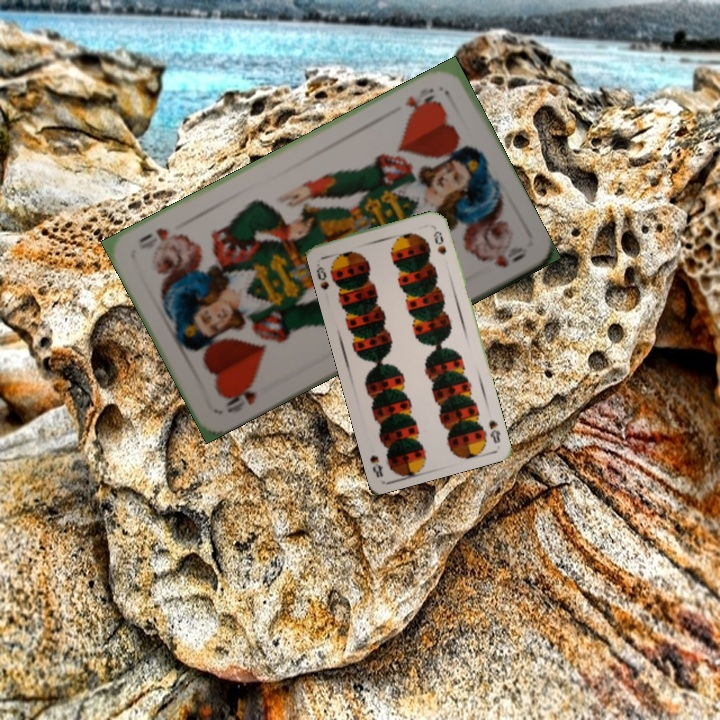HO: (220, 380, 259, 416), (401, 84, 439, 118)
S8: (313, 260, 331, 292), (485, 416, 503, 446)
